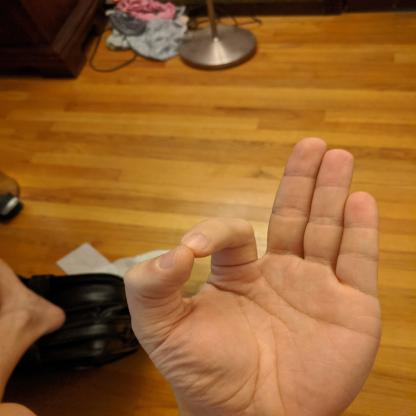F: (118, 134, 387, 415)
